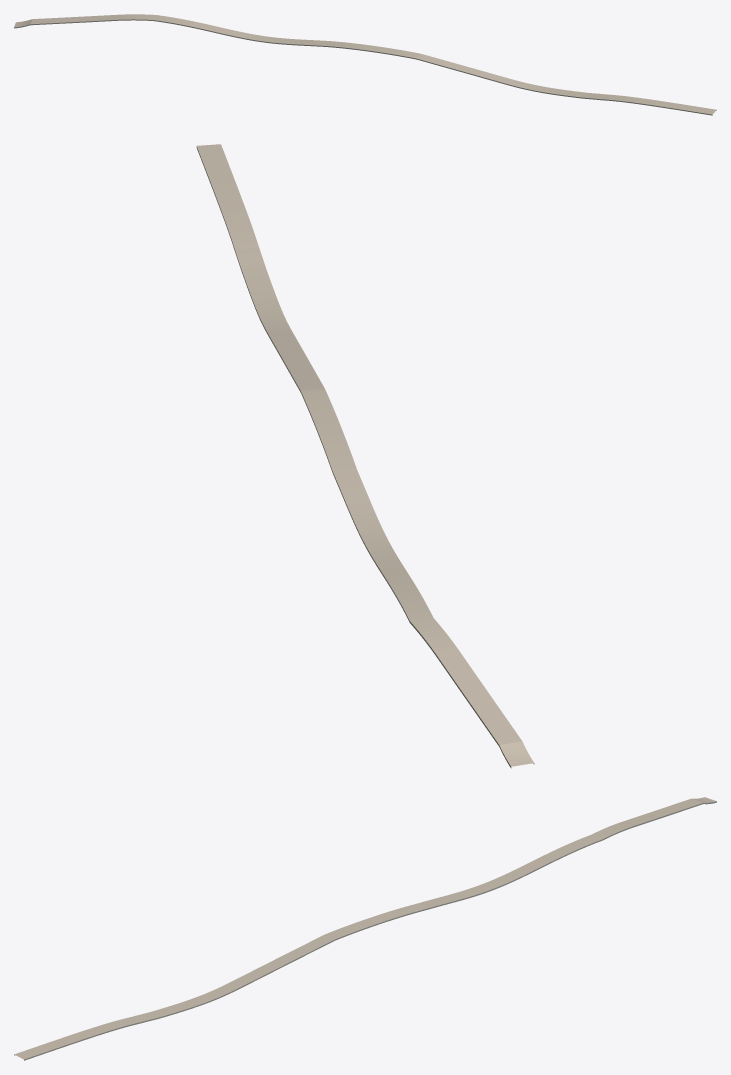
File: SM_Road_to_obelisk.fbx
3 renders of one model, top to bottom at view 1: azimuth 30°, elevation 25°; view 2: azimuth 150°, elevation 25°; view 3: azimuth 270°, elevation 25°, orthographic. The views are drawn at different scales.
Parts seen in each view (by area): view 1: SM_Road_to_obelisk; view 2: SM_Road_to_obelisk; view 3: SM_Road_to_obelisk.
Boxes of the visible parts, <box> form: SM_Road_to_obelisk: <box>14,14,716,115</box>; SM_Road_to_obelisk: <box>196,144,534,768</box>; SM_Road_to_obelisk: <box>14,797,716,1060</box>.
Size of the model in its own units: 366 by 14.3 by 401.
